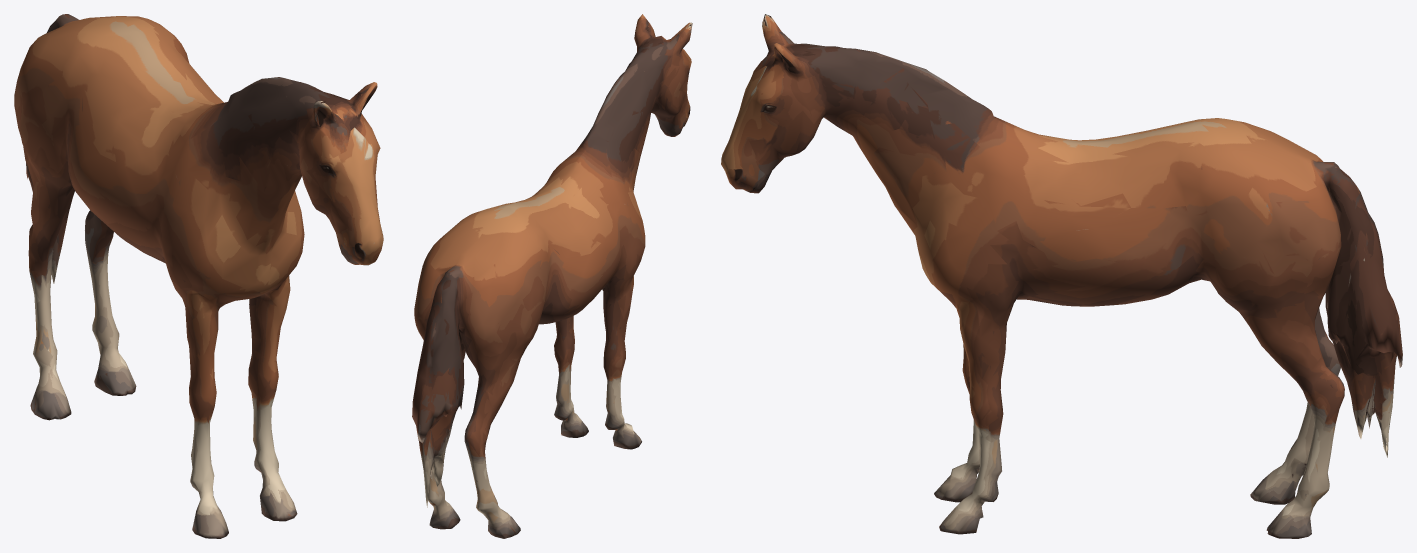
Rendered from horse.fbx.
3 views of the same model, side by side, from view 1: azimuth 30°, elevation 25°; view 2: azimuth 150°, elevation 25°; view 3: azimuth 270°, elevation 25° (orthographic). The views are drawn at different scales.
Parts seen in each view (by area): view 1: Mesh_0; view 2: Mesh_0; view 3: Mesh_0.
Part boxes in pixels (box(x1,y1,x2,y2)): Mesh_0: box(14, 14, 383, 538); Mesh_0: box(412, 14, 692, 538); Mesh_0: box(721, 14, 1402, 538).
Bounding box in the file's own units: 64.3 × 199 × 253.
Materials: 1 (1 with a texture image).
